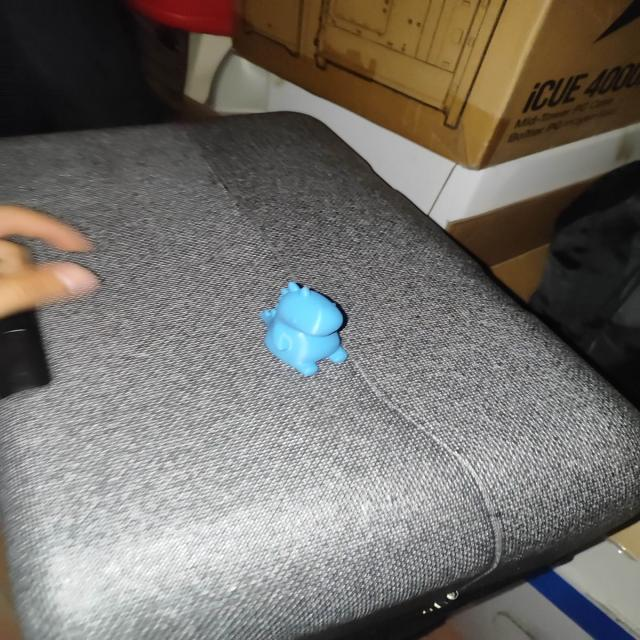DINO: (247, 275, 369, 385)
